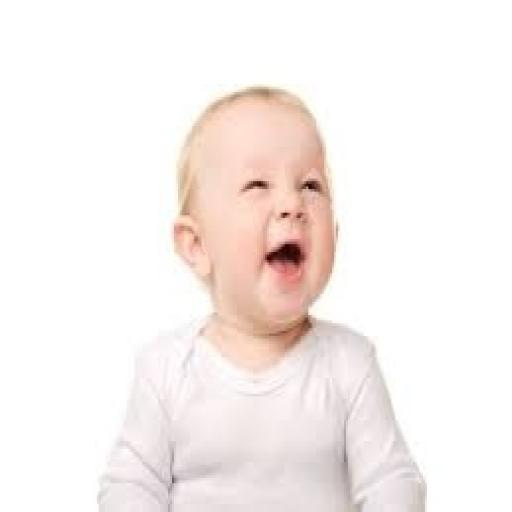laughing: (91, 76, 433, 510)
